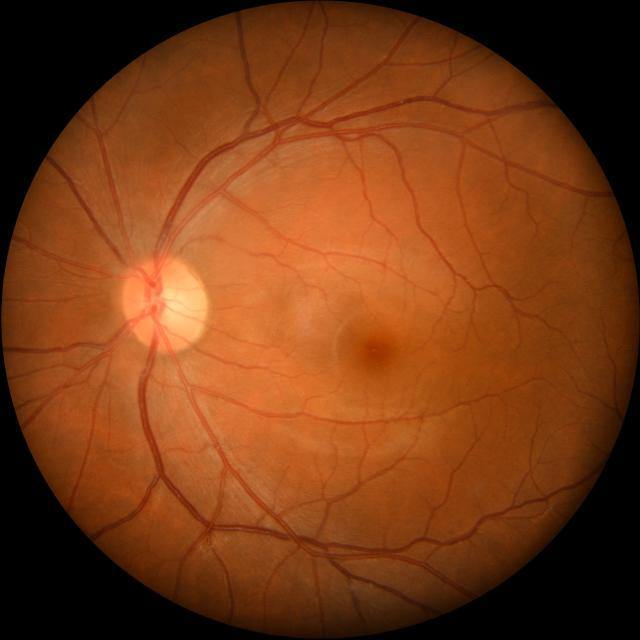OC: (146, 281, 186, 327)
OD: (119, 256, 208, 351)
